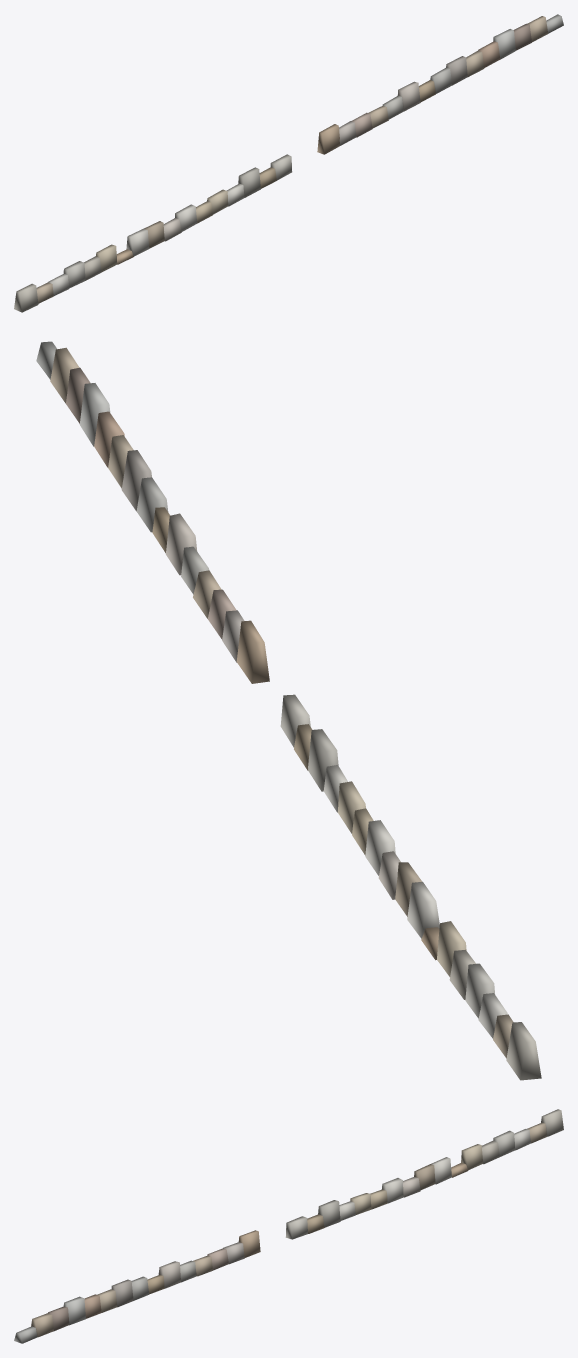
File: farm_-2_-3_far.glb
The picture shows the model from 3 angles, top to bottom: view 1: azimuth 90°, elevation 25°; view 2: azimuth 150°, elevation 25°; view 3: azimuth 270°, elevation 25°; orthographic projection. The views are drawn at different scales.
Visible parts, largest first — view 1: geometry_0; view 2: geometry_0; view 3: geometry_0.
Part boxes in pixels (x1,y1,x2,y2): geometry_0: [14, 14, 563, 312]; geometry_0: [36, 341, 541, 1080]; geometry_0: [14, 1109, 563, 1343].
Size of the model in its own units: 40.47 by 3.98 by 37.11.
